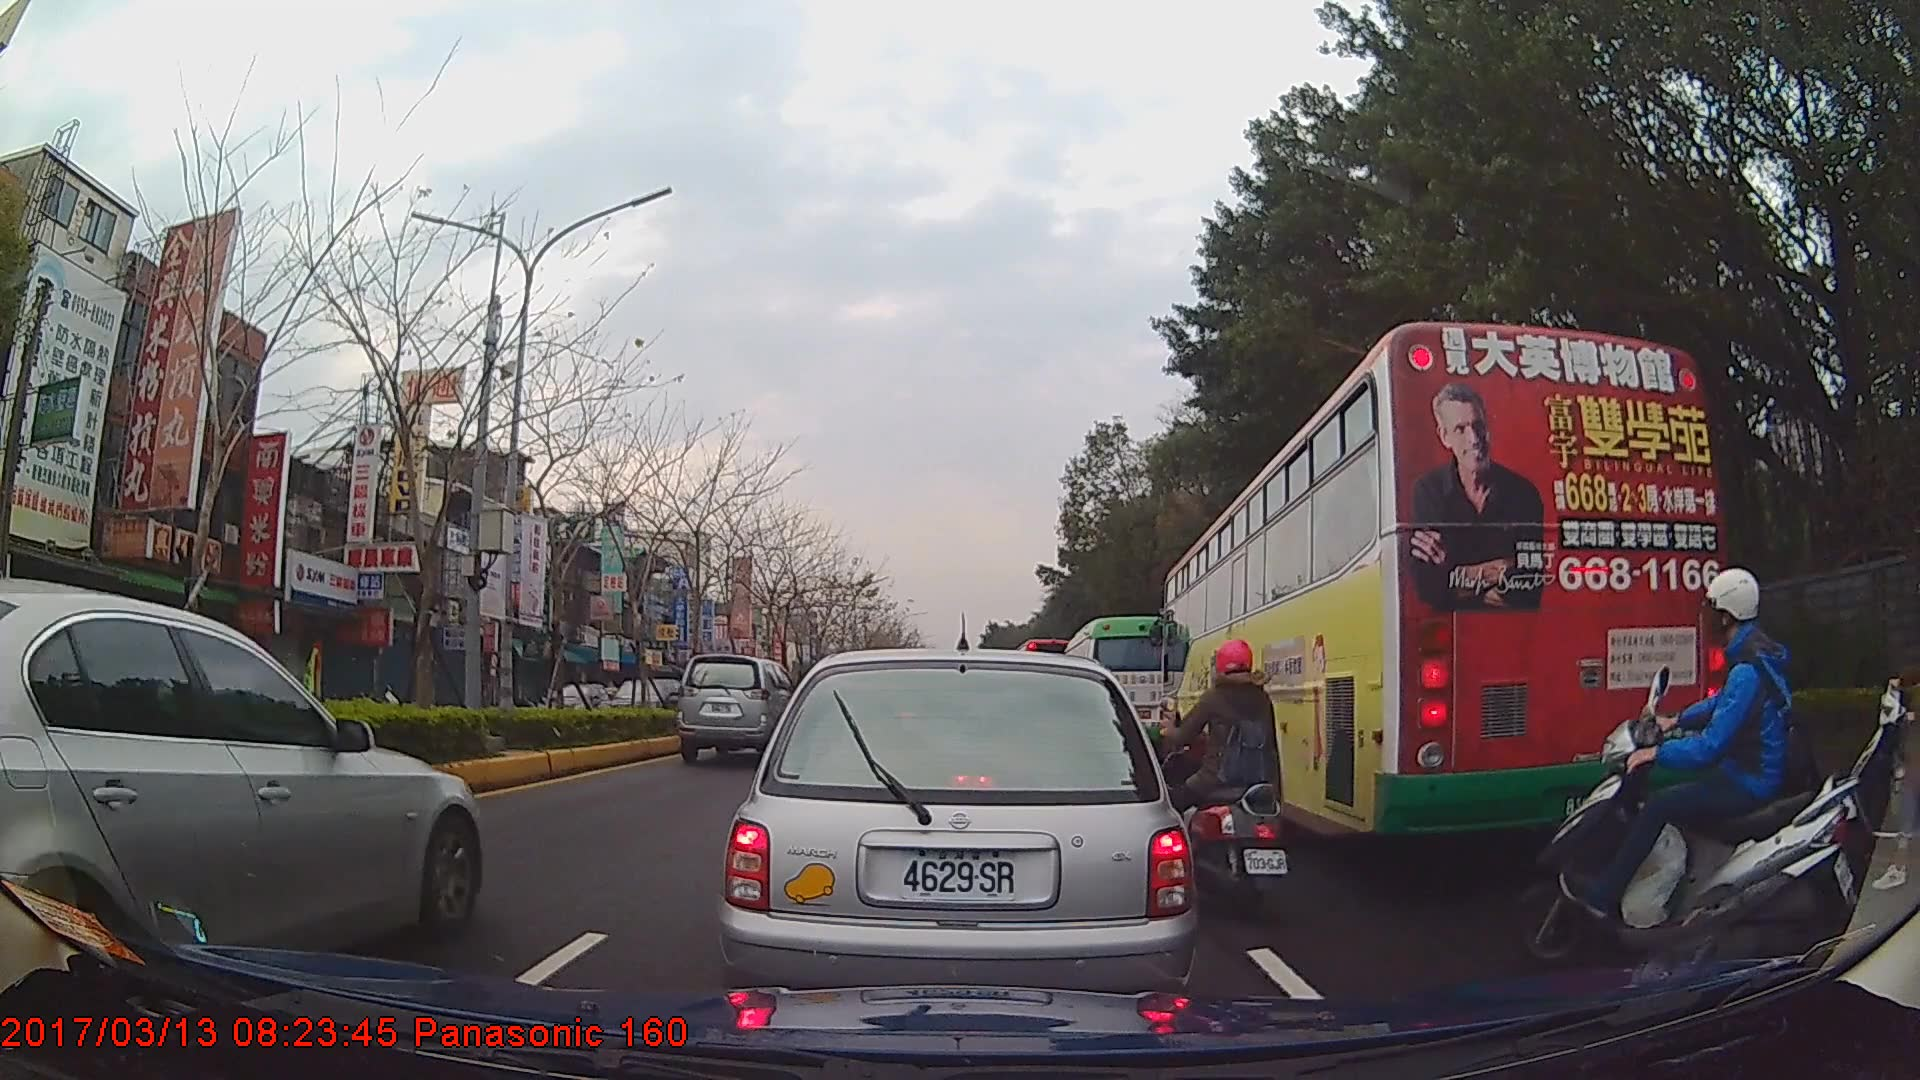rider: (1500, 569, 1854, 974), (1145, 635, 1284, 921), (1823, 571, 1920, 898)
vehicle: (1160, 320, 1727, 854), (0, 565, 484, 993), (716, 645, 1195, 1032), (1061, 614, 1186, 756), (675, 651, 808, 765), (532, 677, 614, 724)
